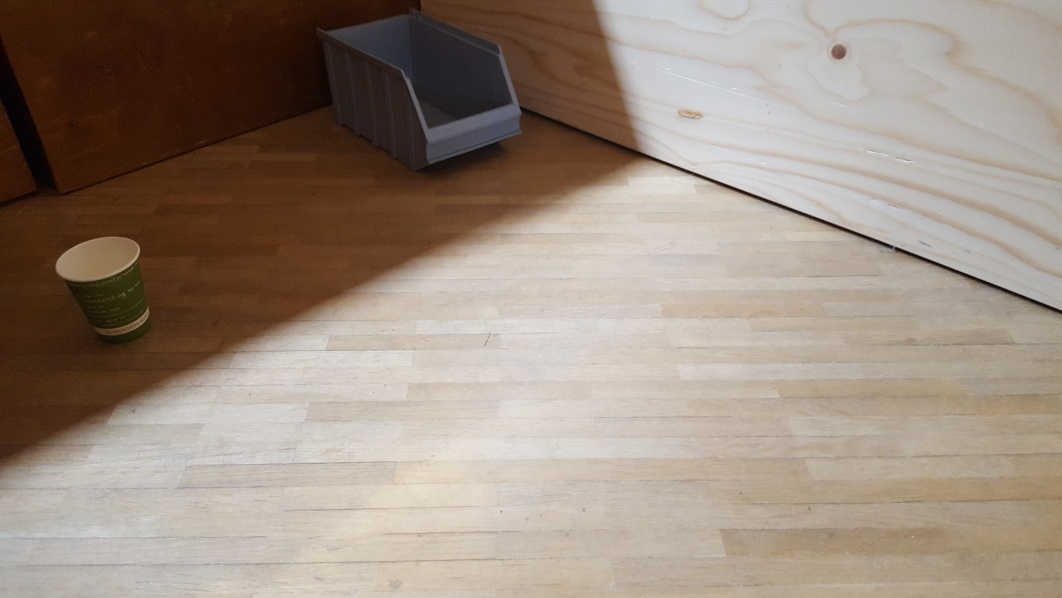cup: (54, 232, 156, 349)
tray: (319, 13, 523, 172)
